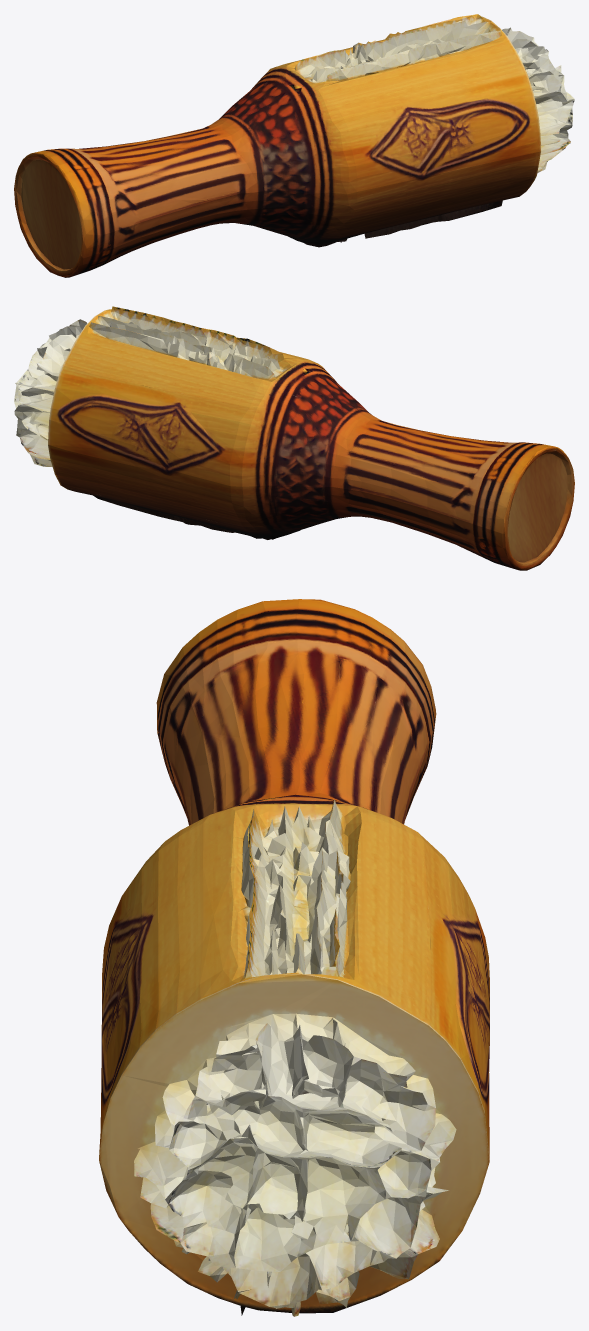
File: wooden-bath-brush-art-deco.jpeg.glb
The picture shows the model from 3 angles, top to bottom: view 1: azimuth 30°, elevation 25°; view 2: azimuth 150°, elevation 25°; view 3: azimuth 270°, elevation 25°; orthographic projection. The views are drawn at different scales.
Parts seen in each view (by area): view 1: world; view 2: world; view 3: world.
Part boxes in pixels (bbox=[...]): world: bbox=[14, 14, 574, 277]; world: bbox=[14, 306, 574, 570]; world: bbox=[99, 599, 489, 1316].
Bounding box in the file's own units: 0.9989 × 0.3474 × 0.3346.
Materials: 1 (1 with a texture image).
